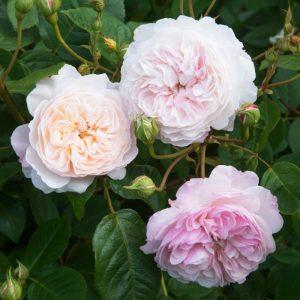Rose: (144, 166, 297, 290), (117, 13, 266, 140), (18, 58, 133, 210)
